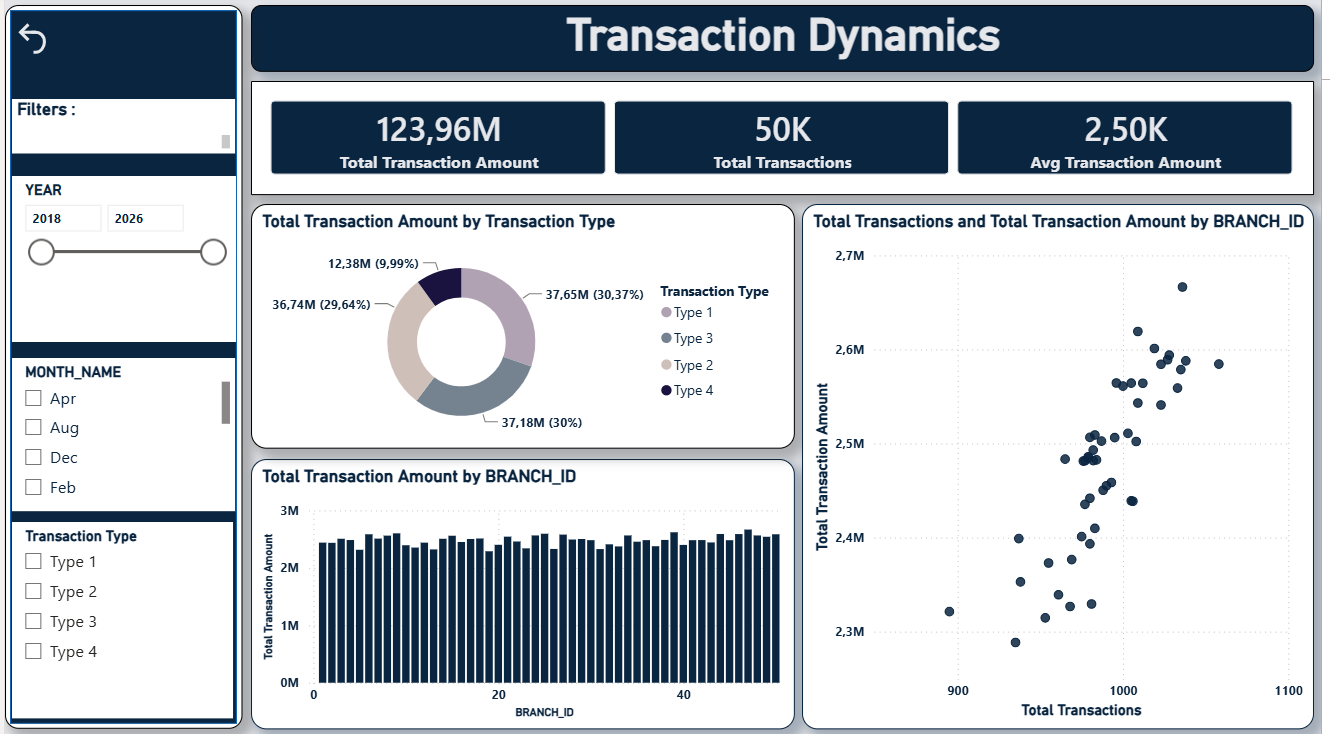

The page's visual inventory and layout, read from the dashboard file:
{"tool":"powerbi","page":{"name":"Transaction Dynamics","canvas":[1280,720],"ordinal":2},"visuals":[{"type":"textbox","title":"Transaction Dynamics","box":[239.3,8.8,1033.9,65.2],"z":0},{"type":"shape","box":[0,8.8,230.5,704.2],"z":1000},{"type":"cardVisual","fields":{"Data":["_Measures.Total Transaction Amount","_Measures.Total Transactions","_Measures.Avg Transaction Amount"]},"box":[239.3,82.7,1033.9,110.9],"z":2000},{"type":"clusteredColumnChart","fields":{"Category":["FCT_TRANSACTIONS.BRANCH_ID"],"Y":["_Measures.Total Transaction Amount"]},"box":[239.3,450.3,1033.9,262.6],"z":3000},{"type":"textbox","title":"Filters :","box":[6.8,100.2,216.9,52.5],"z":4000},{"type":"slicer","fields":{"Values":["DIM_DATE.YEAR"]},"box":[6.8,175.1,216.9,161.5],"z":5000},{"type":"slicer","fields":{"Values":["DIM_DATE.MONTH_NAME"]},"box":[6.8,352.1,216.9,148.8],"z":6000},{"type":"slicer","fields":{"Values":["Dim_TransactionType.Transaction Type"]},"box":[6.8,511.6,215,190.6],"z":7000},{"type":"actionButton","box":[6.8,21.4,53.5,39.9],"z":8000},{"type":"donutChart","fields":{"Category":["Dim_TransactionType.Transaction Type"],"Y":["_Measures.Total Transaction Amount"]},"box":[239.3,202.3,1033.9,238.3],"z":9000}]}

Visuals, with their boxes in screenshot pixels (x1, y1, x2, y2), scaled from the page's 1280x720 canvas onto the 1330x734 screenshot:
"Transaction Dynamics" textbox: [249, 9, 1323, 75]
shape: [0, 9, 240, 727]
cardVisual - _Measures.Total Transaction Amount x _Measures.Total Transactions: [249, 84, 1323, 197]
clusteredColumnChart - FCT_TRANSACTIONS.BRANCH_ID x _Measures.Total Transaction Amount: [249, 459, 1323, 727]
"Filters :" textbox: [7, 102, 232, 156]
slicer - DIM_DATE.YEAR: [7, 179, 232, 343]
slicer - DIM_DATE.MONTH_NAME: [7, 359, 232, 511]
slicer - Dim_TransactionType.Transaction Type: [7, 522, 230, 716]
actionButton: [7, 22, 63, 62]
donutChart - Dim_TransactionType.Transaction Type x _Measures.Total Transaction Amount: [249, 206, 1323, 449]
